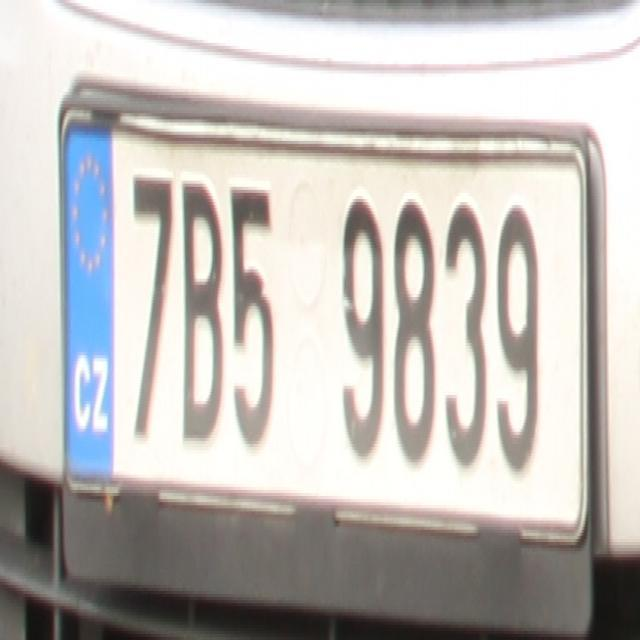3: (446, 196, 488, 478)
5: (229, 178, 275, 450)
7: (131, 178, 173, 432)
8: (394, 192, 438, 462)
9: (339, 192, 384, 460), (496, 205, 540, 478)
B: (180, 174, 222, 444)
